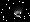person: (14, 4, 24, 17)
